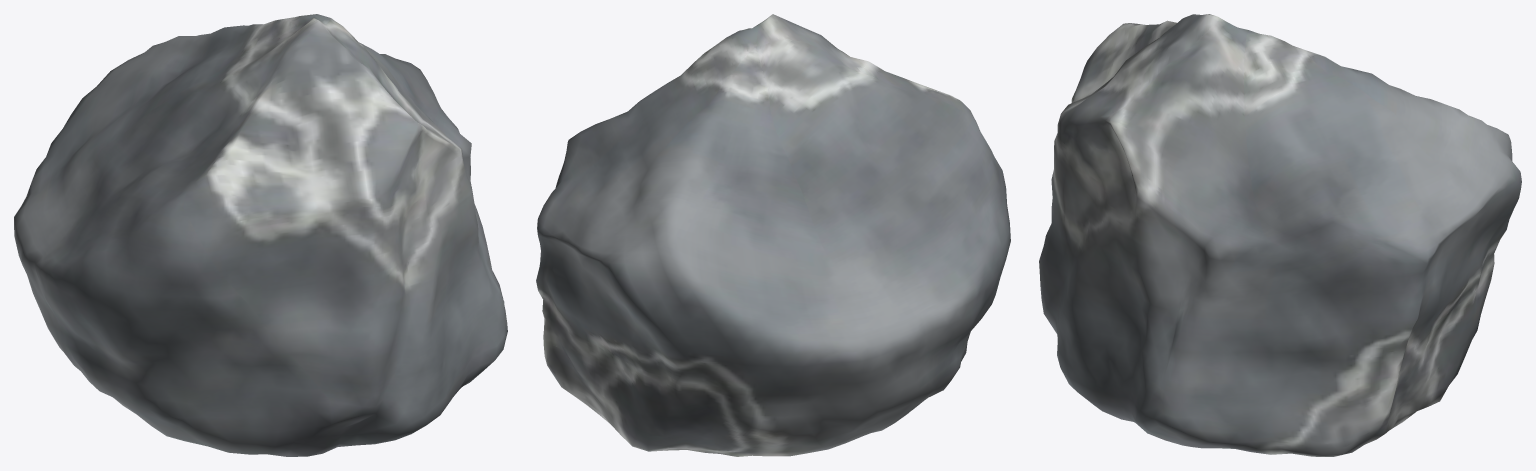
Rendered from stone_e.glb.
3 renders of one model, left to right at view 1: azimuth 30°, elevation 25°; view 2: azimuth 150°, elevation 25°; view 3: azimuth 270°, elevation 25°, orthographic. The views are drawn at different scales.
Visible parts, largest first — view 1: stone_e; view 2: stone_e; view 3: stone_e.
Boxes of the visible parts, box(x1,y1,x2,y2) form: stone_e: box(14, 14, 507, 456); stone_e: box(536, 14, 1010, 456); stone_e: box(1039, 14, 1521, 456).
Size of the model in its own units: 5.16 by 4.64 by 5.35.
1 material, 1 textured.
